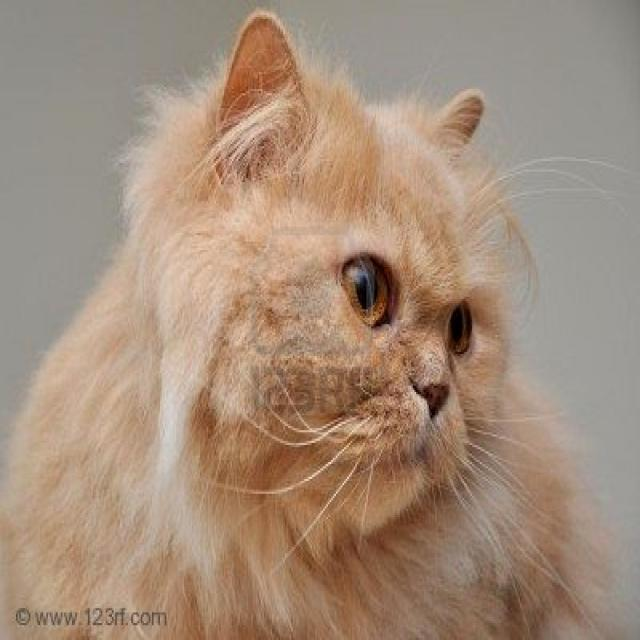Persian: (138, 0, 526, 552)
